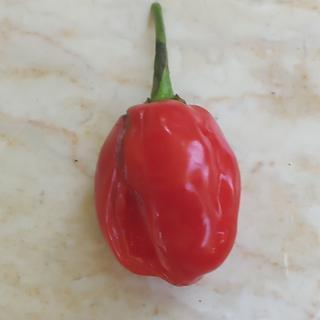striped: (114, 110, 136, 190)
